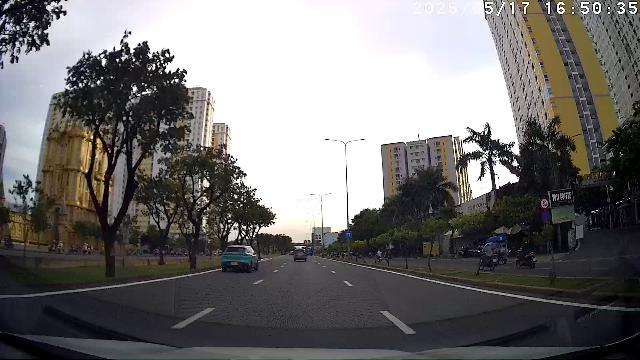127-toc-do-toi-da-60: (540, 198, 549, 210)
